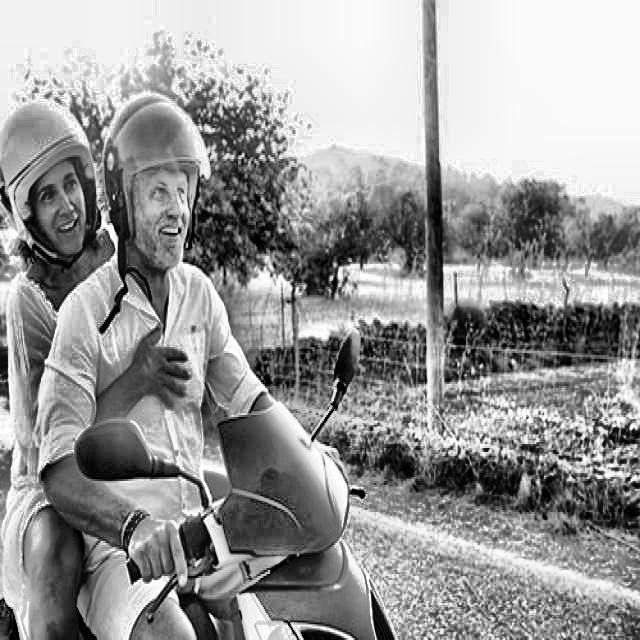Helmet: (0, 91, 105, 277)
